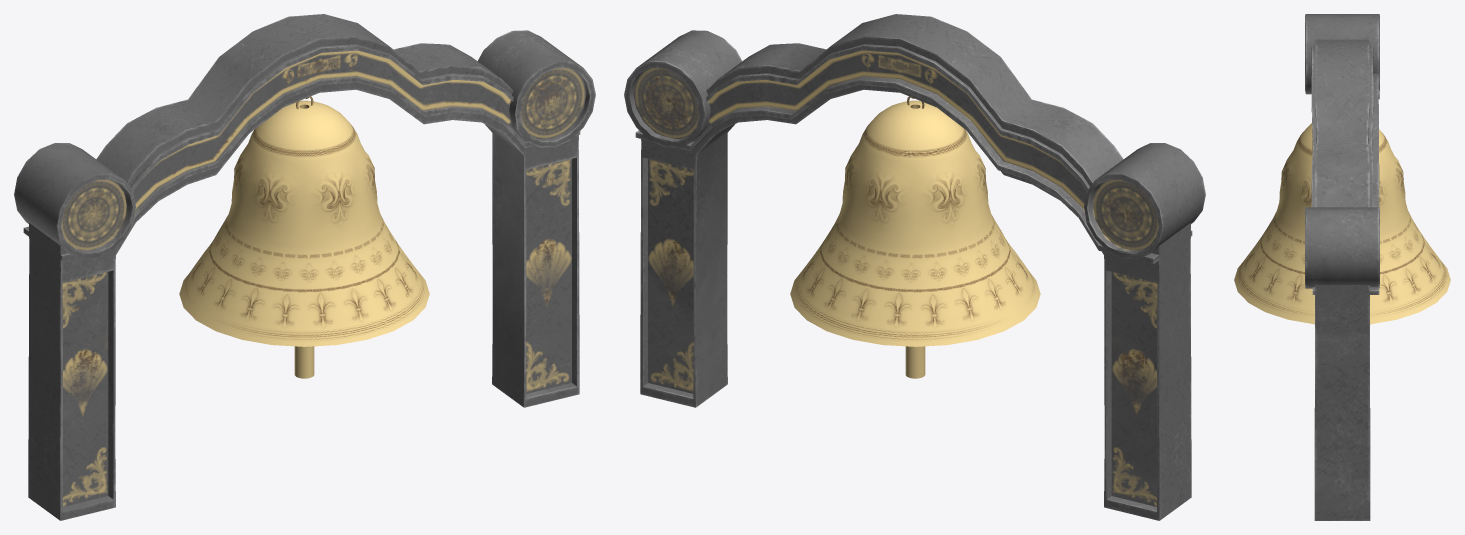
File: bell.obj
3 views of the same model, side by side, from view 1: azimuth 30°, elevation 25°; view 2: azimuth 150°, elevation 25°; view 3: azimuth 270°, elevation 25° (orthographic). The views are drawn at different scales.
Parts seen in each view (by area): view 1: Bell; view 2: Bell; view 3: Bell.
Boxes of the visible parts, <box> form: Bell: <box>14,14,595,520</box>; Bell: <box>624,14,1205,520</box>; Bell: <box>1234,14,1450,520</box>.
Size of the model in its own units: 19.4 by 14.39 by 7.81.
